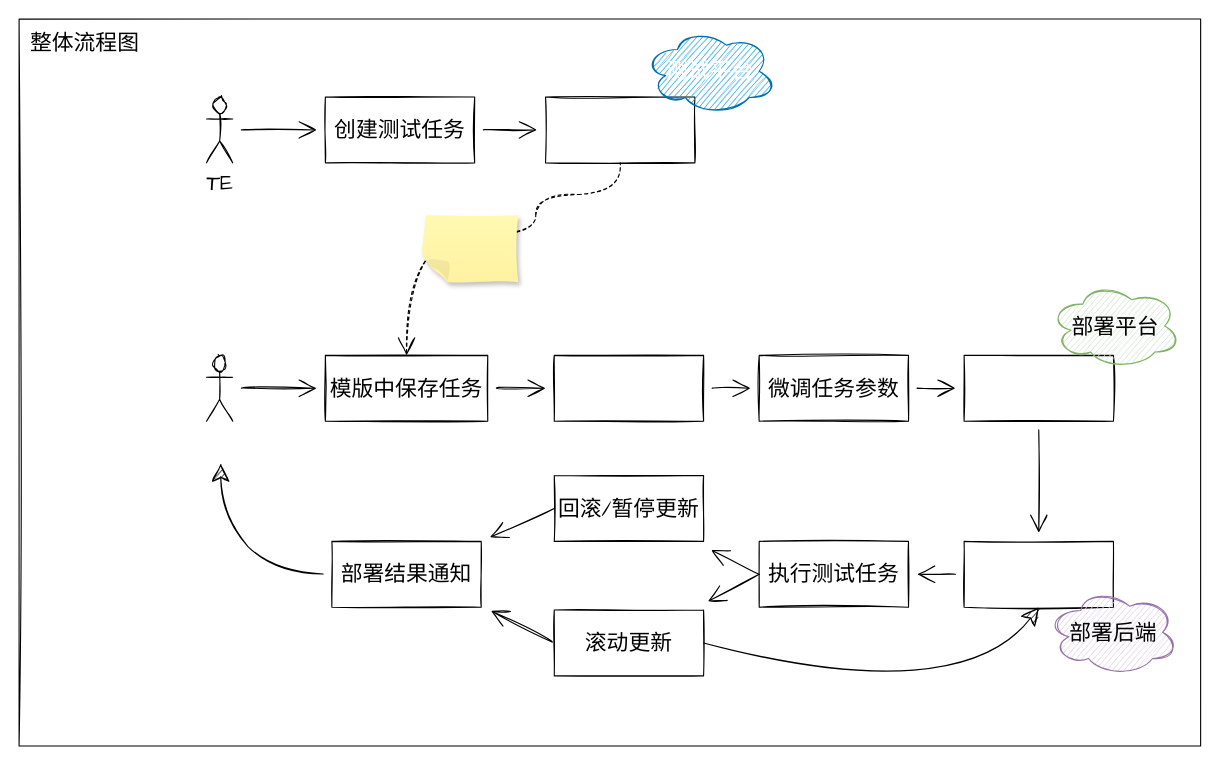
Image size: 1220x765. Some labels were removed from this diagram. Each missing label, with the centre of its shape:
"SRE" belongs at point (219, 387).
"任务元信息、配置参数" belongs at point (472, 249).
"创建部署单" belongs at point (628, 387).
"灰度发布" belongs at point (1038, 387).
"部署状态监测" belongs at point (1038, 573).
"配置测试用例" belongs at point (619, 129).
